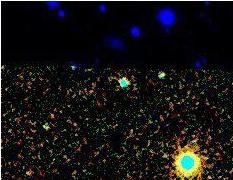star: (13, 158, 43, 180)
